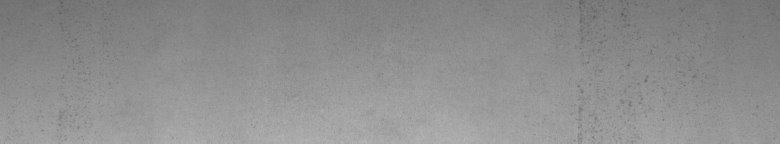ib: (571, 8, 655, 120)
